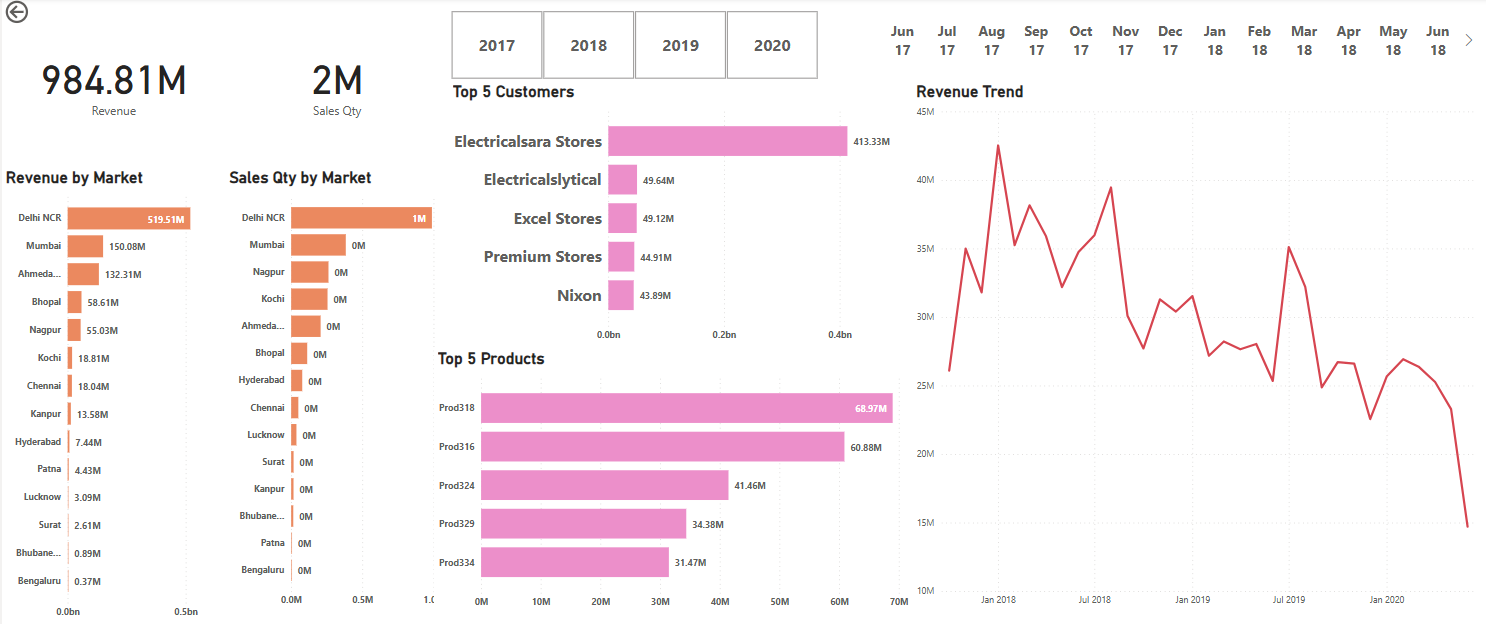

The dashboard page shown, as its layout file describes it:
{"tool":"powerbi","page":{"name":"Page 1","canvas":[2000,844],"ordinal":0},"visuals":[{"type":"card","fields":{"Values":["BaseMeasures.Revenue"]},"box":[0,0,300,230],"z":0},{"type":"card","fields":{"Values":["BaseMeasures.Sales Qty"]},"box":[300,0,300,230],"z":1000},{"type":"actionButton","box":[0,0,100,40],"z":2000},{"type":"barChart","title":"Revenue by Market","fields":{"Y":["BaseMeasures.Revenue"],"Category":["sales markets.markets_name"]},"box":[0,229.5,299.7,614.5],"z":3000},{"type":"barChart","title":"Sales Qty by Market","fields":{"Y":["BaseMeasures.Sales Qty"],"Category":["sales markets.markets_name"]},"box":[299.7,229.5,299.7,599.3],"z":4000},{"type":"slicer","fields":{"Values":["sales date.year"]},"box":[579.2,11.8,541.4,104],"z":5000},{"type":"slicer","fields":{"Values":["sales date.cy_date"]},"box":[1156,0,827.4,115.8],"z":6000},{"type":"barChart","title":"Top 5 Customers","fields":{"Y":["BaseMeasures.Revenue"],"Category":["sales customers.custmer_name"]},"box":[600.5,115.8,624.1,357],"z":7000},{"type":"barChart","title":"Top 5 Products","fields":{"Y":["BaseMeasures.Revenue"],"Category":["sales transactions.product_code"]},"box":[581.6,472.8,643,357],"z":8000},{"type":"lineChart","title":"Revenue Trend","fields":{"Y":["BaseMeasures.Revenue"],"Category":["sales date.cy_date.Variation.Date Hierarchy.Year","sales date.cy_date.Variation.Date Hierarchy.Quarter","sales date.cy_date.Variation.Date Hierarchy.Month","sales date.cy_date.Variation.Date Hierarchy.Day"]},"box":[1224.6,115.8,775.4,713.9],"z":9000}]}

Visuals, with their boxes in screenshot pixels (x1, y1, x2, y2), scaled from the page's 2000x844 canvas onto the 1486x624 screenshot:
card - BaseMeasures.Revenue: bbox=(0, 0, 223, 170)
card - BaseMeasures.Sales Qty: bbox=(223, 0, 446, 170)
actionButton: bbox=(0, 0, 74, 30)
"Revenue by Market" barChart: bbox=(0, 170, 223, 623)
"Sales Qty by Market" barChart: bbox=(223, 170, 445, 613)
slicer - sales date.year: bbox=(430, 9, 833, 86)
slicer - sales date.cy_date: bbox=(859, 0, 1474, 86)
"Top 5 Customers" barChart: bbox=(446, 86, 910, 350)
"Top 5 Products" barChart: bbox=(432, 350, 910, 614)
"Revenue Trend" lineChart: bbox=(910, 86, 1485, 613)
